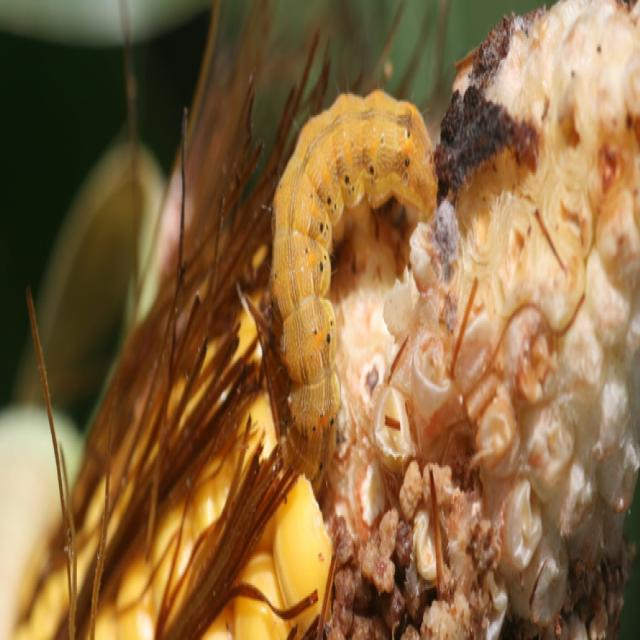Corn-earworm: (274, 90, 444, 468)
